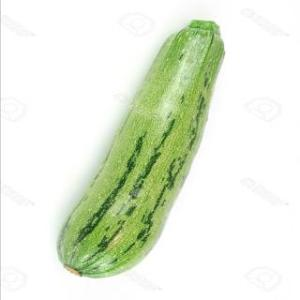zucchini: (57, 6, 220, 278)
